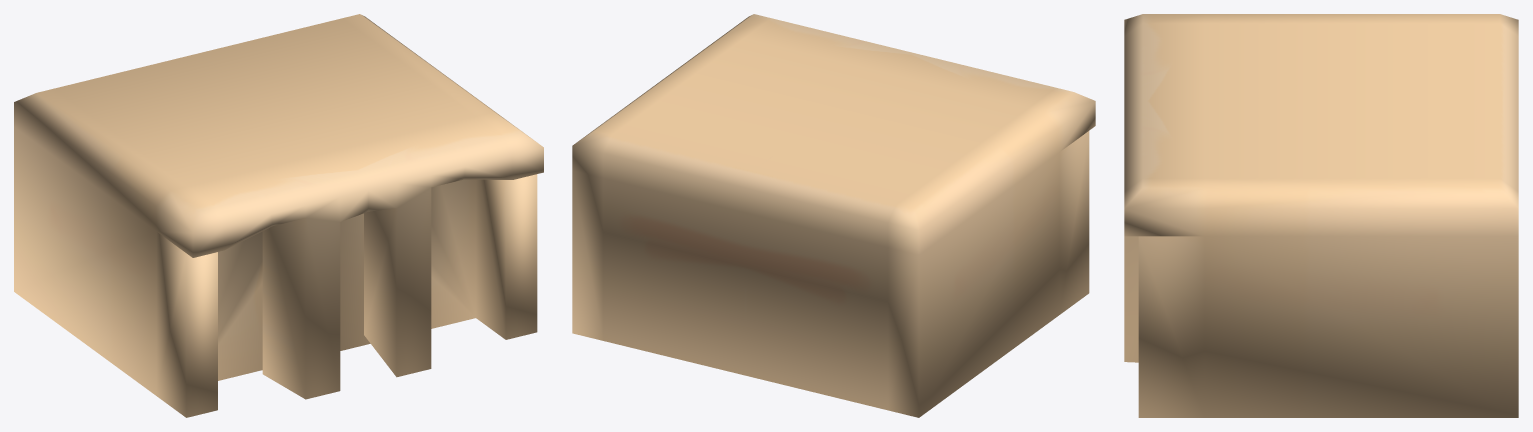
File: castle 2.fbx
3 views of the same model, side by side, from view 1: azimuth 30°, elevation 25°; view 2: azimuth 150°, elevation 25°; view 3: azimuth 270°, elevation 25° (orthographic). The views are drawn at different scales.
Parts seen in each view (by area): view 1: castle 2; view 2: castle 2; view 3: castle 2.
Part boxes in pixels (<box>): castle 2: <box>14,14,543,417</box>; castle 2: <box>572,14,1095,417</box>; castle 2: <box>1124,14,1518,417</box>.
Bounding box in the file's own units: 544 × 305 × 480.
